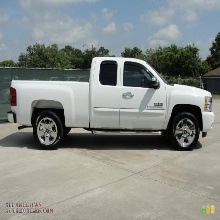no damage: (7, 56, 213, 151)
